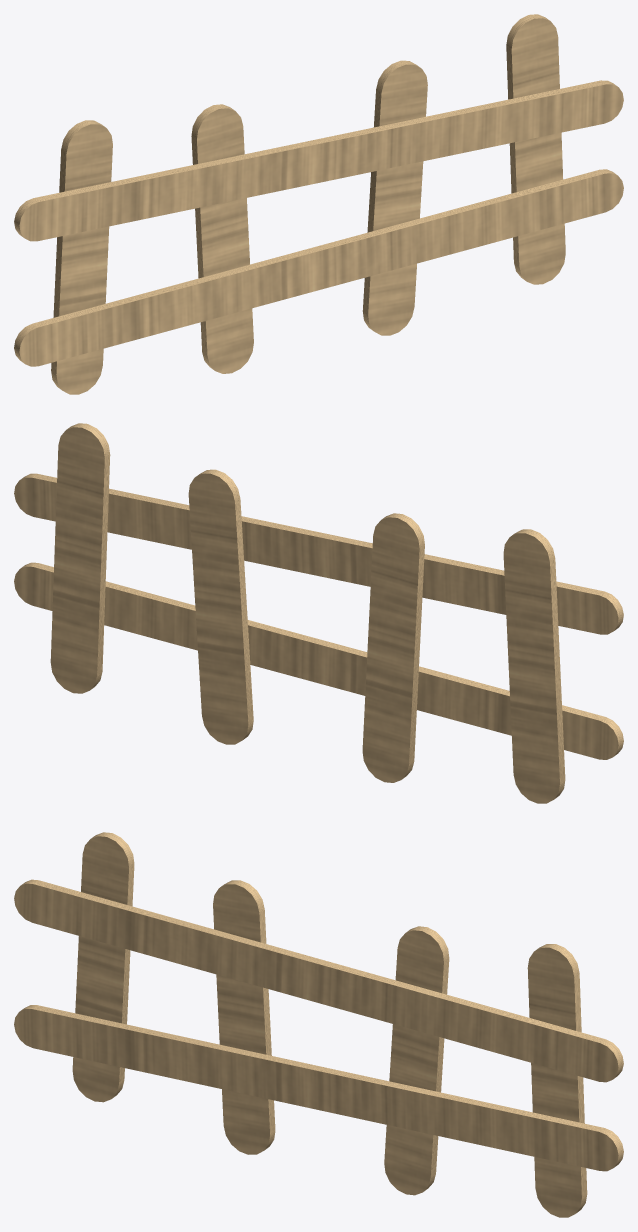
The model's file is fence_sticks.gltf.
3 views of the same model, one above another, from view 1: azimuth 30°, elevation 25°; view 2: azimuth 150°, elevation 25°; view 3: azimuth 330°, elevation 25° (orthographic).
Parts seen in each view (by area): view 1: fence_sticks; view 2: fence_sticks; view 3: fence_sticks.
Boxes of the visible parts, <box> form: fence_sticks: <box>14,14,623,394</box>; fence_sticks: <box>14,423,623,803</box>; fence_sticks: <box>14,832,623,1217</box>.
Bounding box in the file's own units: 1.3 × 0.5842 × 0.06.
1 material, 1 textured.
